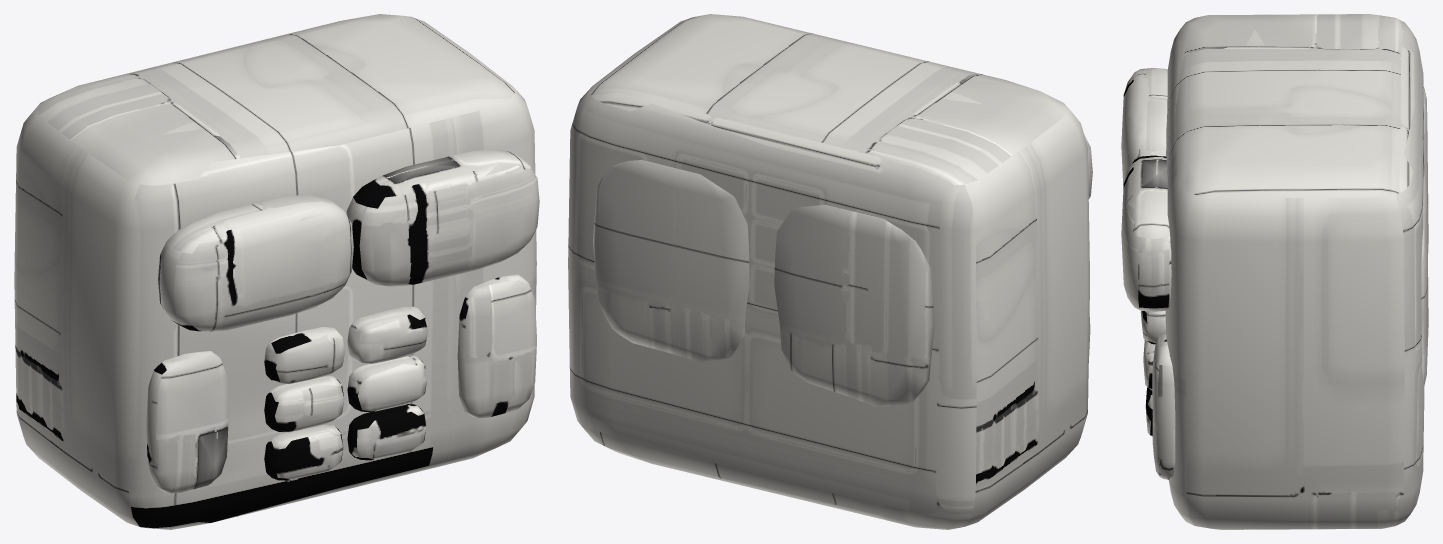
File: Centinela_Peto.fbx
The picture shows the model from 3 angles, left to right: view 1: azimuth 30°, elevation 25°; view 2: azimuth 150°, elevation 25°; view 3: azimuth 270°, elevation 25°; orthographic projection. The views are drawn at different scales.
Parts seen in each view (by area): view 1: Centinela_Peto; view 2: Centinela_Peto; view 3: Centinela_Peto.
Part boxes in pixels (left/top/right/bottom): Centinela_Peto: left=14, top=14, right=539, bottom=529; Centinela_Peto: left=568, top=14, right=1092, bottom=529; Centinela_Peto: left=1121, top=14, right=1428, bottom=529.
Bounding box in the file's own units: 2.09 × 1.76 × 1.35.
